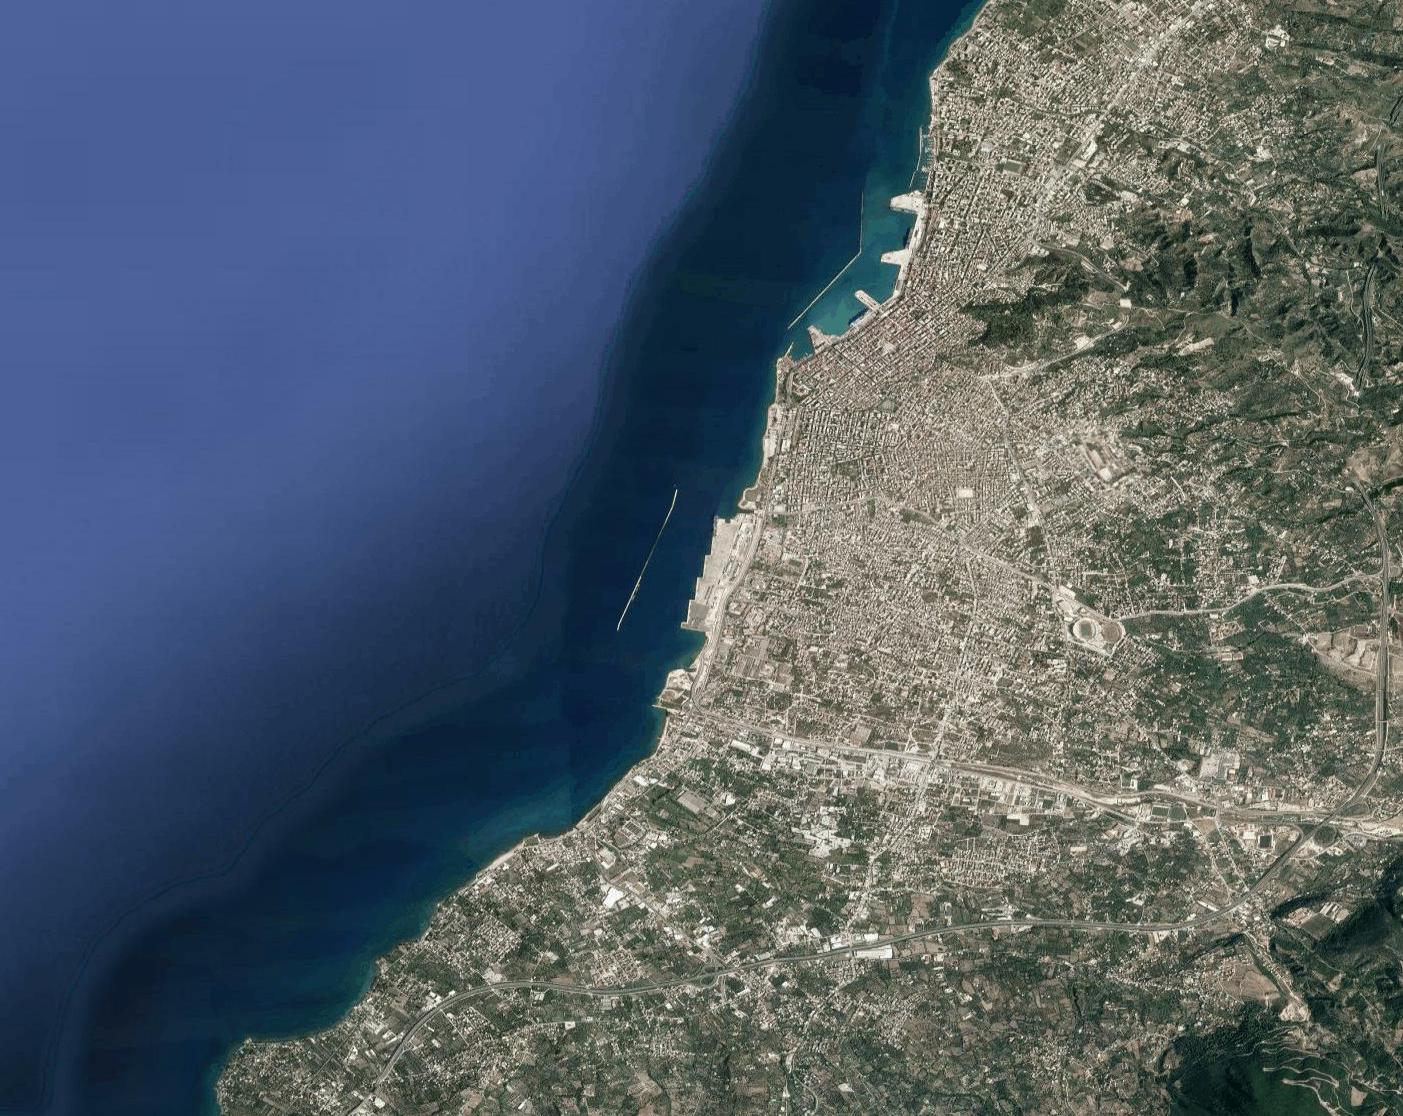harbor: (681, 506, 735, 642), (903, 120, 934, 192)
